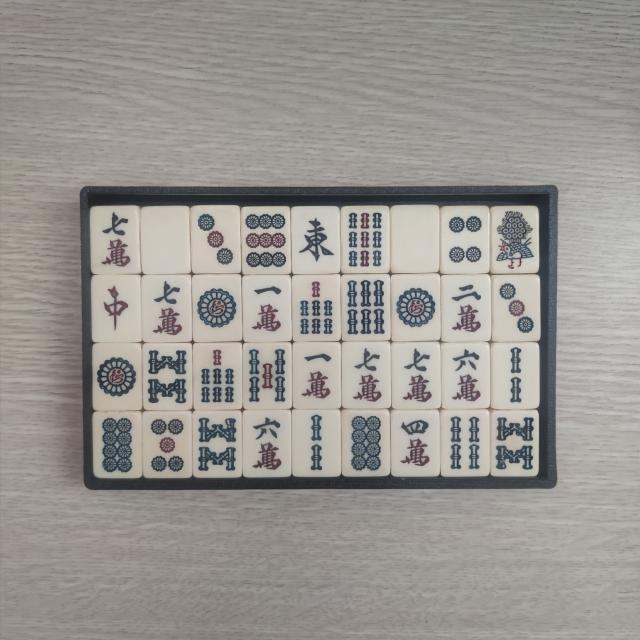hdr: (96, 278, 136, 337)
hdw: (396, 210, 436, 268), (146, 212, 186, 270)
hwe: (296, 212, 337, 270)
sb1: (494, 210, 536, 272)
sb2: (298, 414, 338, 476), (497, 346, 537, 406)
sb4: (446, 414, 484, 474)
sb5: (246, 346, 288, 404)
sb6: (344, 278, 386, 338)
sb7: (197, 346, 239, 406), (298, 278, 338, 336)
sb8: (148, 348, 190, 408), (197, 416, 238, 476), (496, 414, 536, 474)
sb9: (344, 208, 384, 268)
sc1: (297, 346, 337, 404), (247, 280, 286, 338)
sc2: (446, 280, 486, 338)
sc4: (398, 414, 436, 471)
sc6: (247, 412, 286, 472), (446, 346, 484, 404)
sc7: (94, 208, 134, 269), (147, 280, 187, 340), (396, 344, 436, 404), (348, 344, 387, 404)
sd1: (396, 279, 438, 339), (95, 350, 138, 408), (196, 280, 239, 338)
sd3: (195, 210, 238, 270), (498, 278, 538, 338)
sd4: (446, 210, 486, 270)
sd5: (149, 416, 189, 476)
sd8: (96, 414, 138, 474), (346, 412, 384, 472)
sd9: (247, 210, 290, 269)
